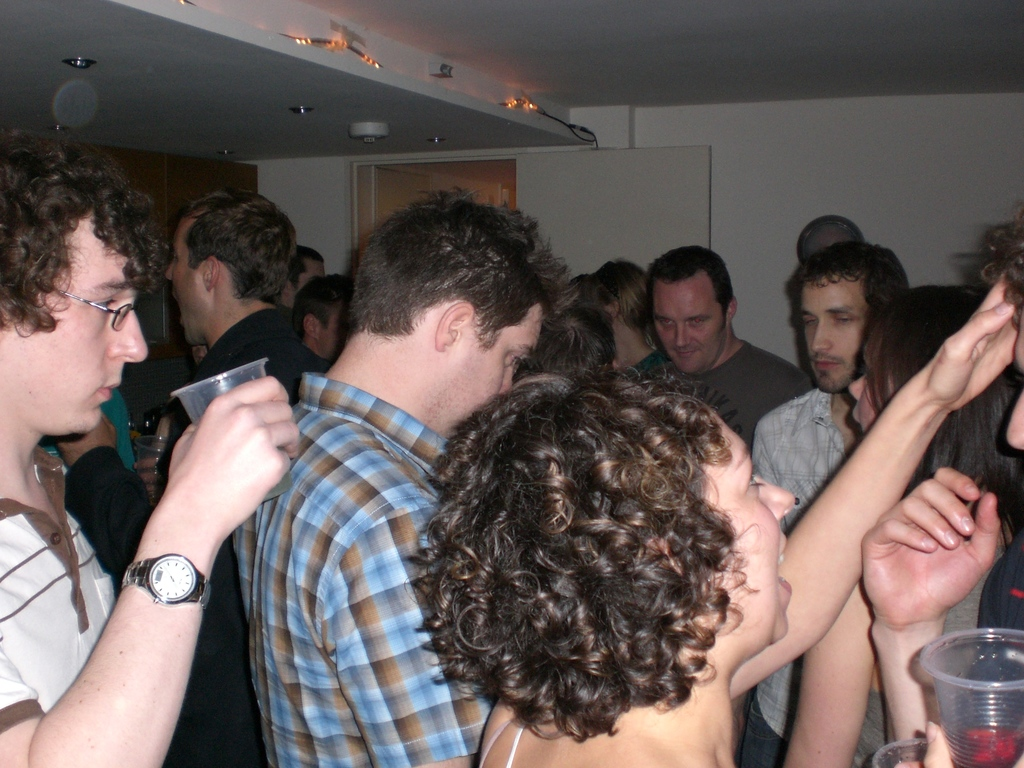Human-face: (4, 210, 148, 435), (704, 402, 795, 646), (445, 302, 545, 435), (797, 273, 872, 393), (652, 267, 724, 374), (167, 206, 213, 346)
